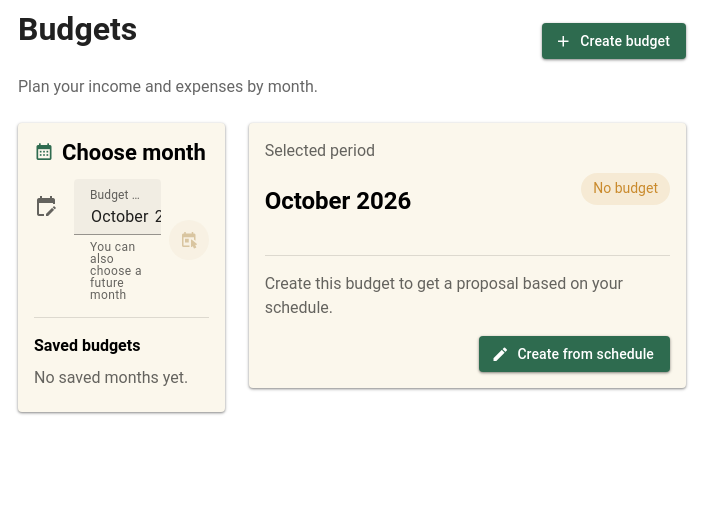
Test: BudgetsView › surfaces a template failure in the page
This screenshot has width=705, height=508.
Click the button with test id "edit-budget" at (575, 354), box [479,336,670,372]
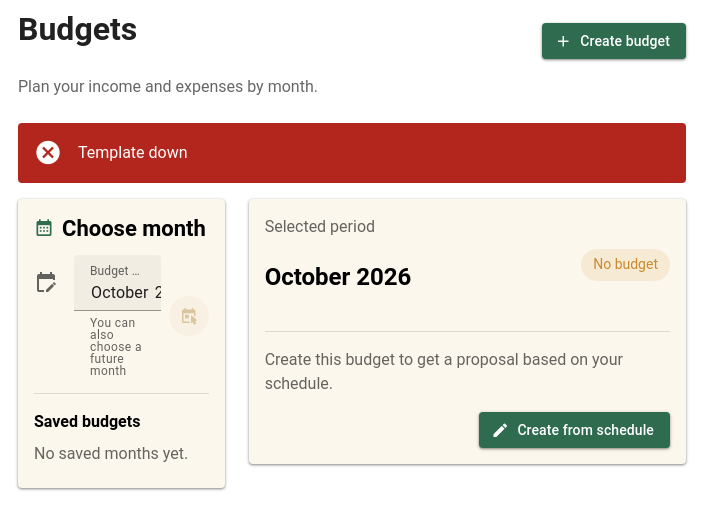
Now the element with test id "budget-action-error" reads "Template down", box [78,143,188,162]
